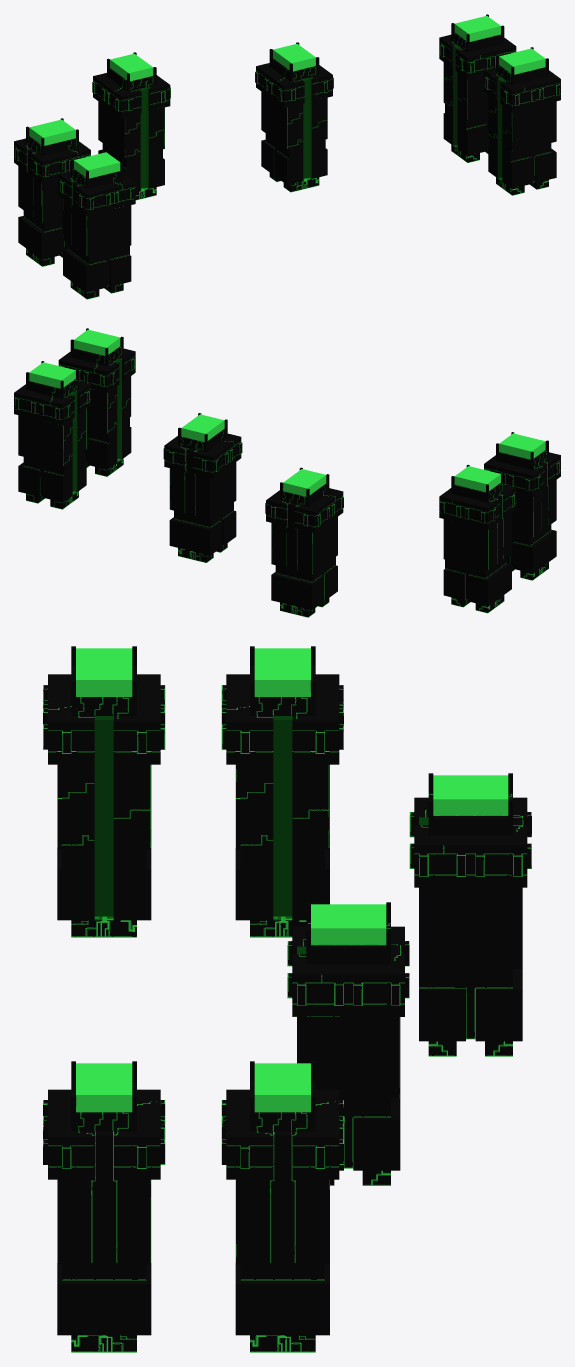
The model's file is towers-transformed.glb.
3 renders of one model, top to bottom at view 1: azimuth 30°, elevation 25°; view 2: azimuth 150°, elevation 25°; view 3: azimuth 270°, elevation 25°, orthographic. The views are drawn at different scales.
Parts seen in each view (by area): view 1: Cube.006, Cube.007; view 2: Cube.006, Cube.007; view 3: Cube.006, Cube.007.
Boxes of the visible parts, x1,y1,x2,y2 form: Cube.006: [14, 14, 560, 299]; Cube.007: [139, 45, 505, 190]; Cube.006: [14, 328, 560, 617]; Cube.007: [69, 359, 121, 494]; Cube.006: [43, 646, 531, 1352]; Cube.007: [94, 716, 428, 953].
Size of the model in its own units: 235 by 60 by 104.
2 materials, 1 textured.
